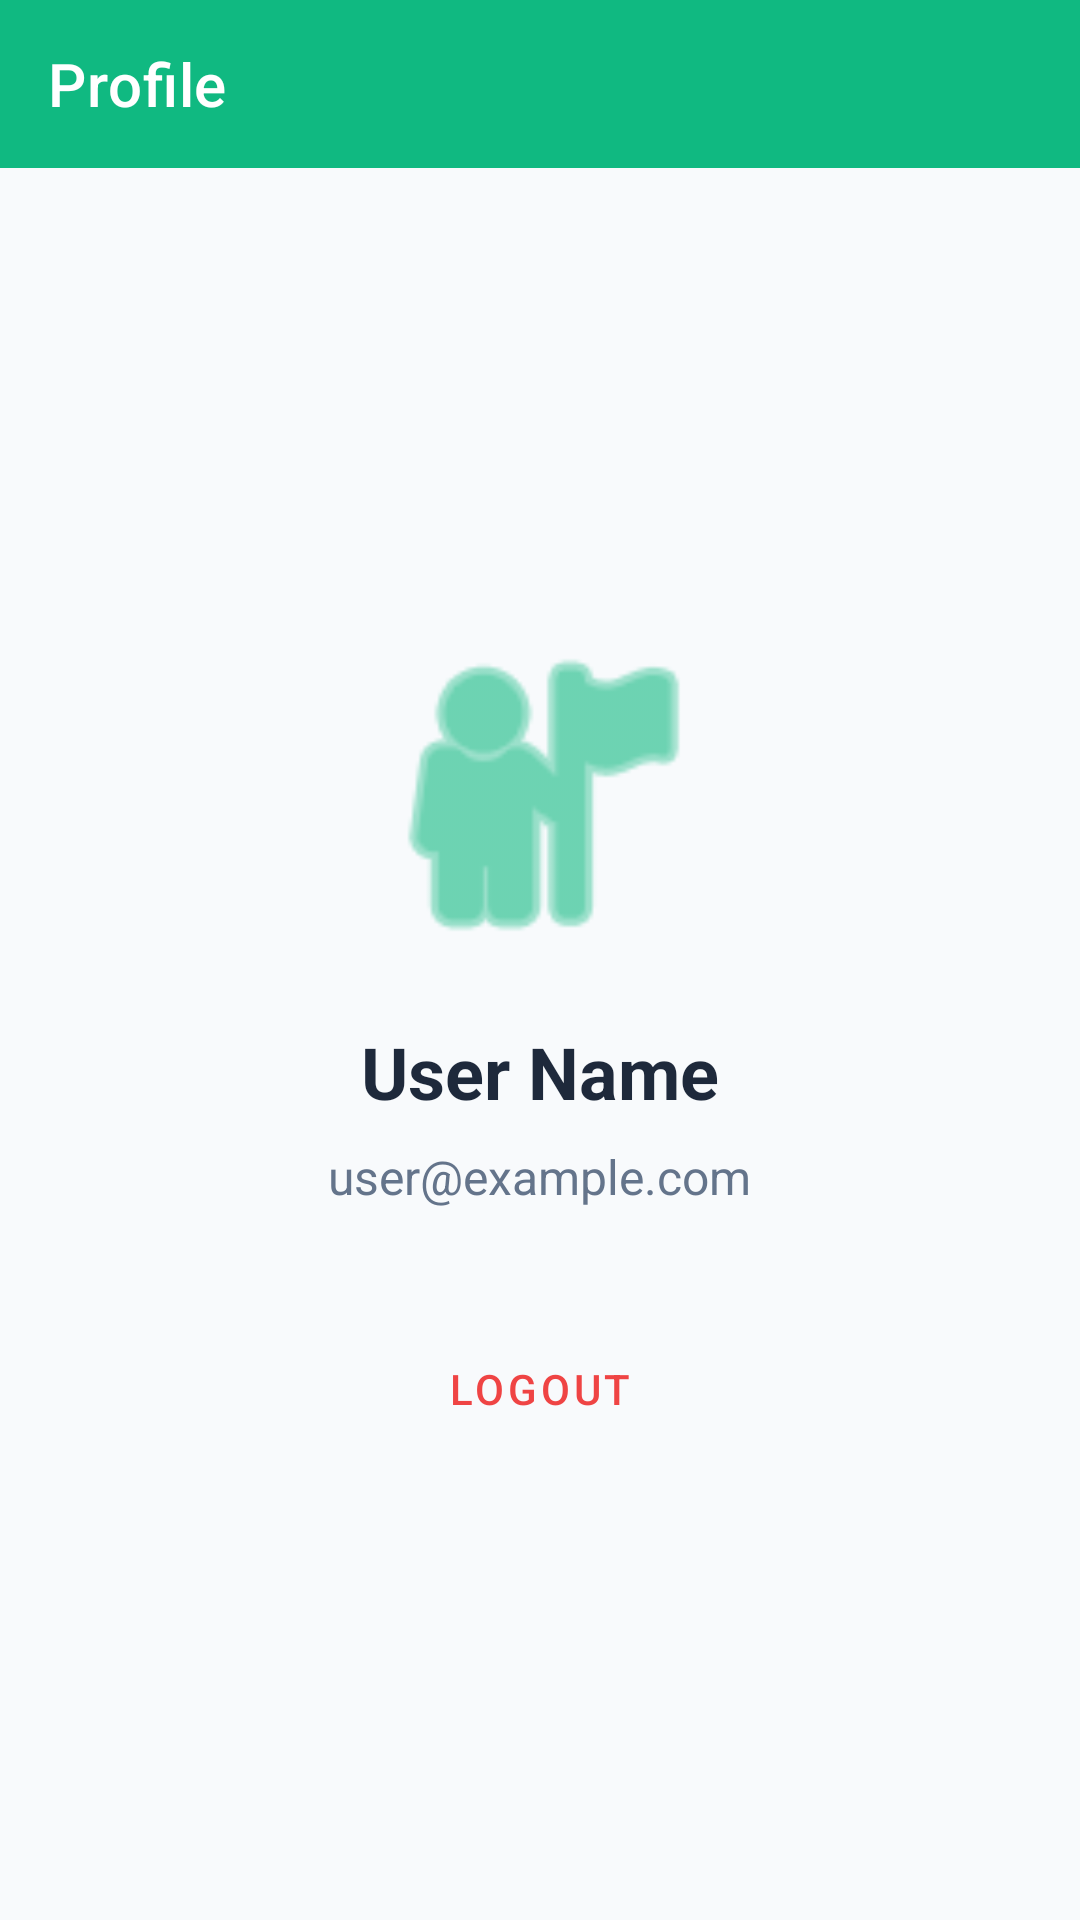

Icon click points for this 1080×1920 phone screenshot, format point (x, y):
Profile Image: point (543, 795)
